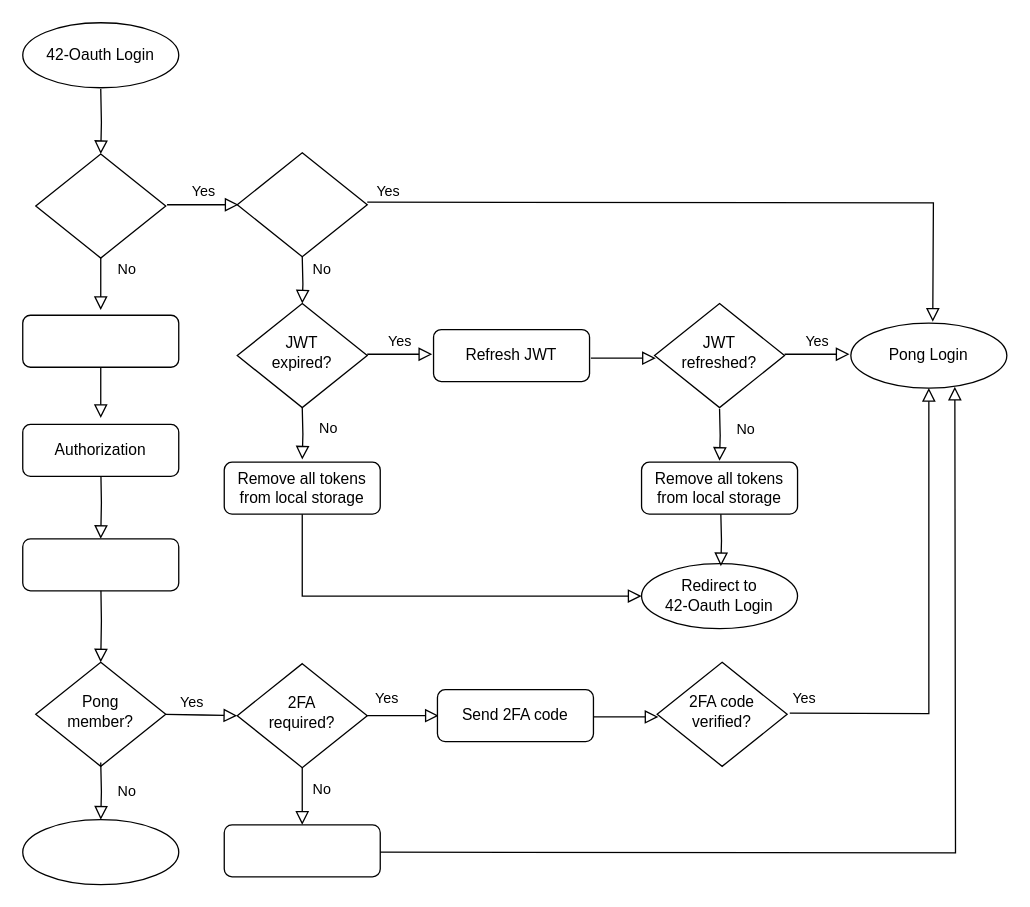
This 1030x907 diagram has some shape labels left out. The shapes that lost their labels are listed below. From the top down, each one's centre as x and y in pixels, then its label:
the point at 100,205: JWT exists?
the point at 301,204: JWT validate?
the point at 100,340: Issue 42 token
the point at 100,564: Call 42 API to get user profile
the point at 100,851: Redirect to signup page
the point at 301,850: Issue JWT
